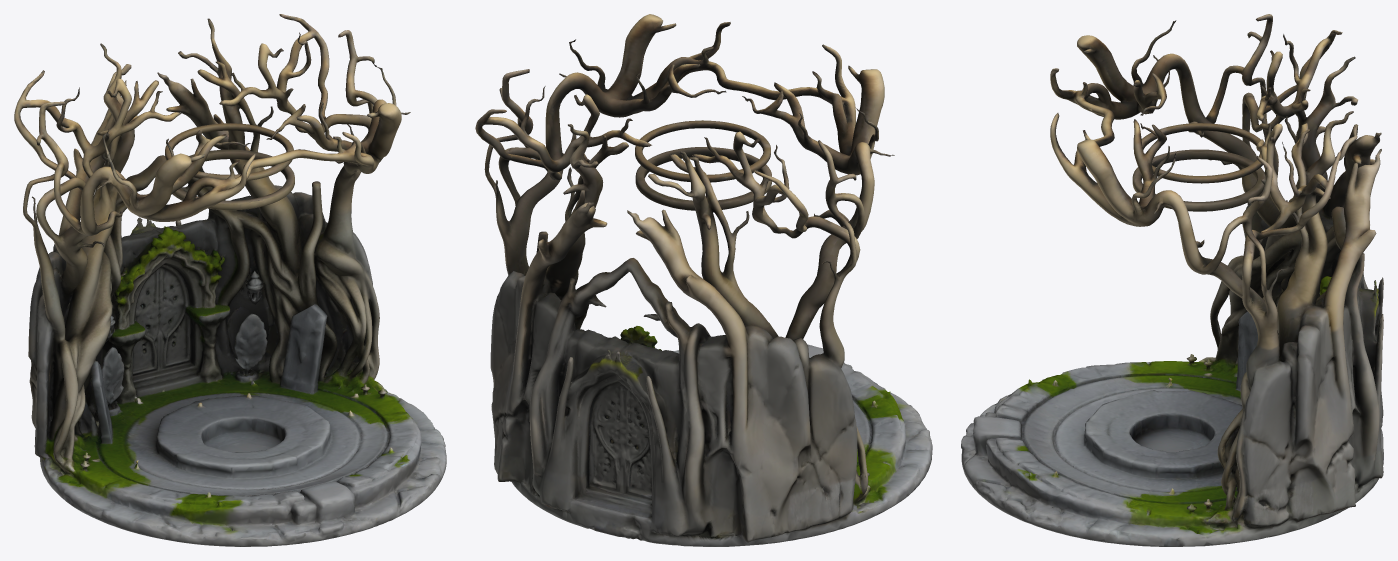
File: spawn_gazebo.glb
The picture shows the model from 3 angles, left to right: view 1: azimuth 30°, elevation 25°; view 2: azimuth 150°, elevation 25°; view 3: azimuth 270°, elevation 25°; orthographic projection. The views are drawn at different scales.
Size of the model in its own units: 1.98 by 1.96 by 2.
1 material, 1 textured.
